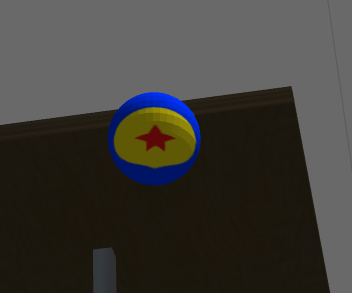toy_story_ball: (106, 91, 202, 186)
